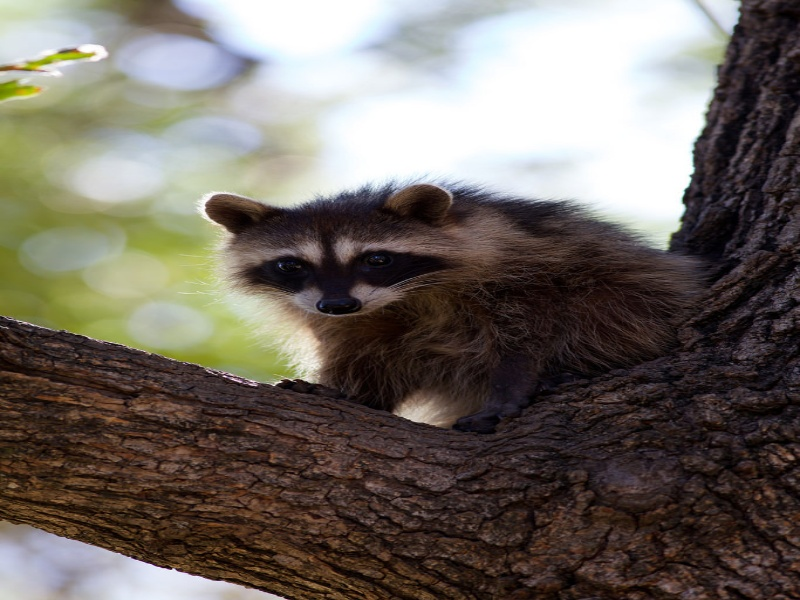raccoon: (193, 184, 710, 457)
